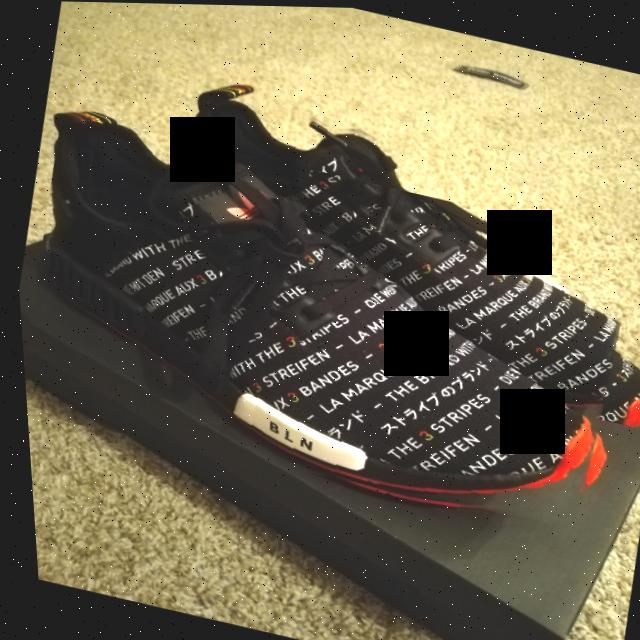shoe: (6, 110, 640, 544), (157, 87, 640, 428)
